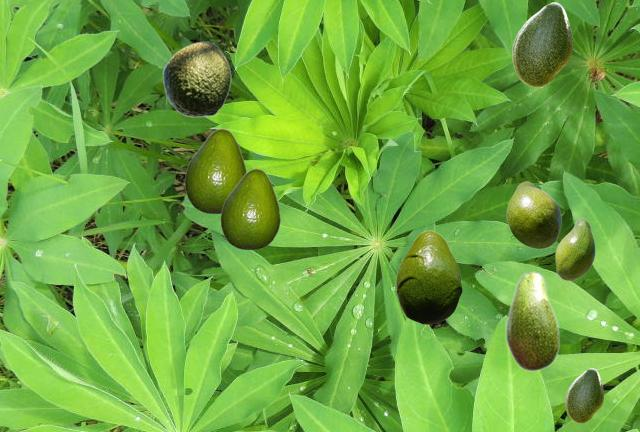avocado: (396, 230, 461, 323), (505, 270, 559, 371), (184, 128, 246, 212), (162, 41, 230, 116), (512, 2, 571, 86), (220, 168, 279, 248), (506, 181, 560, 248), (555, 218, 594, 280), (565, 368, 602, 422)
